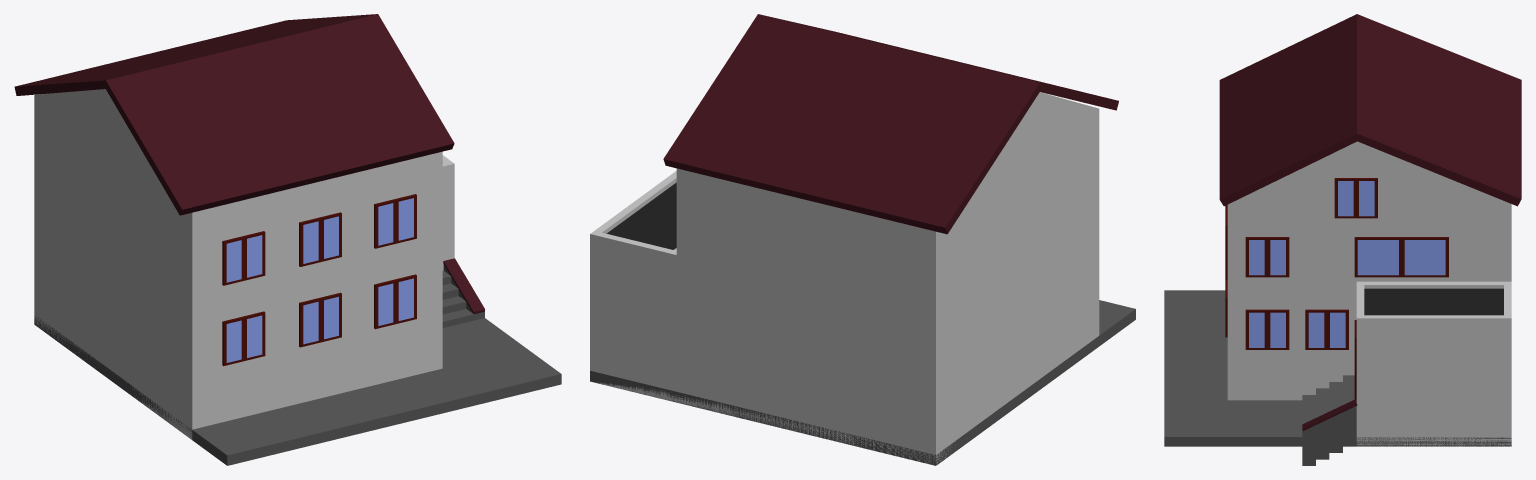
The model's file is home.obj.
3 views of the same model, side by side, from view 1: azimuth 30°, elevation 25°; view 2: azimuth 150°, elevation 25°; view 3: azimuth 270°, elevation 25° (orthographic). The views are drawn at different scales.
Parts seen in each view (by area): view 1: Plane.001; view 2: Plane.001; view 3: Plane.001.
Boxes of the visible parts, <box> form: Plane.001: <box>14,14,561,465</box>; Plane.001: <box>590,14,1135,465</box>; Plane.001: <box>1164,14,1521,465</box>.
Size of the model in its own units: 2.09 by 1.9 by 2.06.
